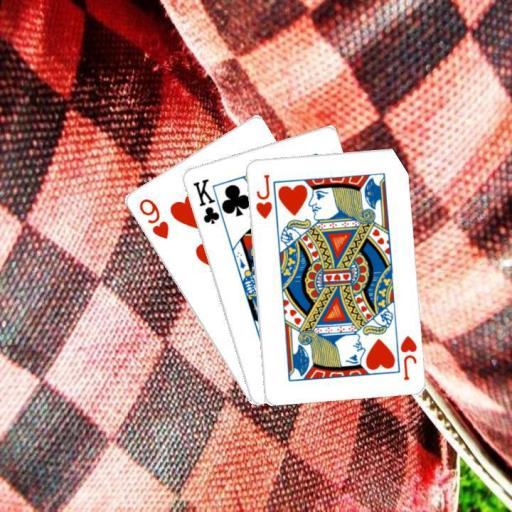9H: (135, 195, 170, 240)
JH: (252, 171, 273, 220), (397, 332, 418, 381)
KC: (189, 175, 228, 227)
